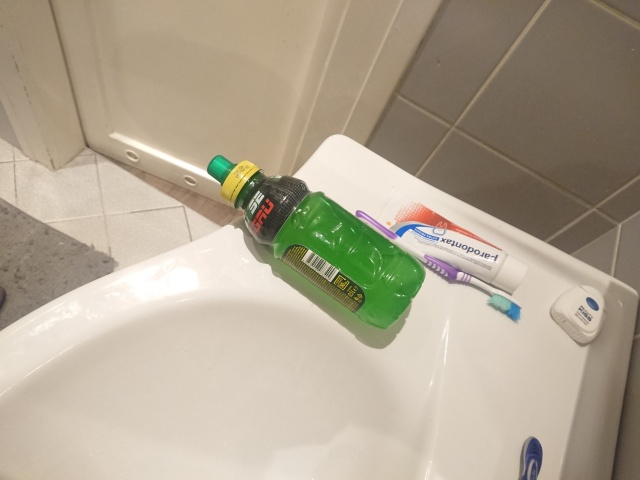Vindi Iso Sport Lemon-Grapefruit 500mL: (204, 152, 429, 332)
